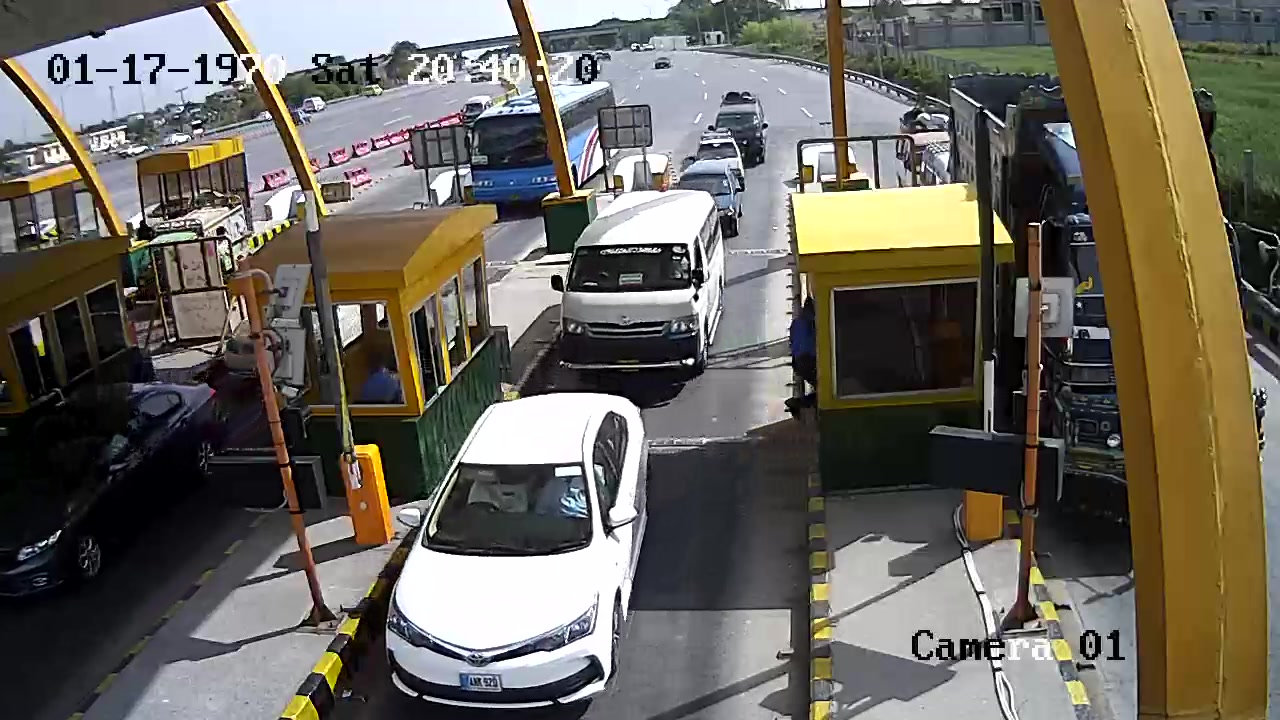F1: (381, 391, 671, 720)
F3: (555, 185, 730, 382)
